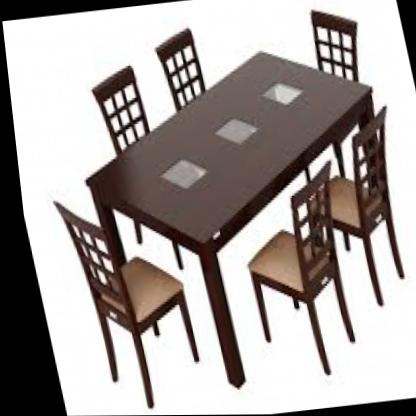Dining Table: (9, 0, 416, 416)
